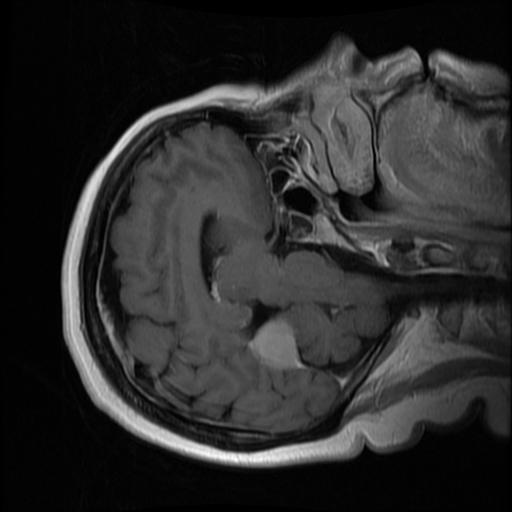meningioma: (247, 316, 302, 368)
